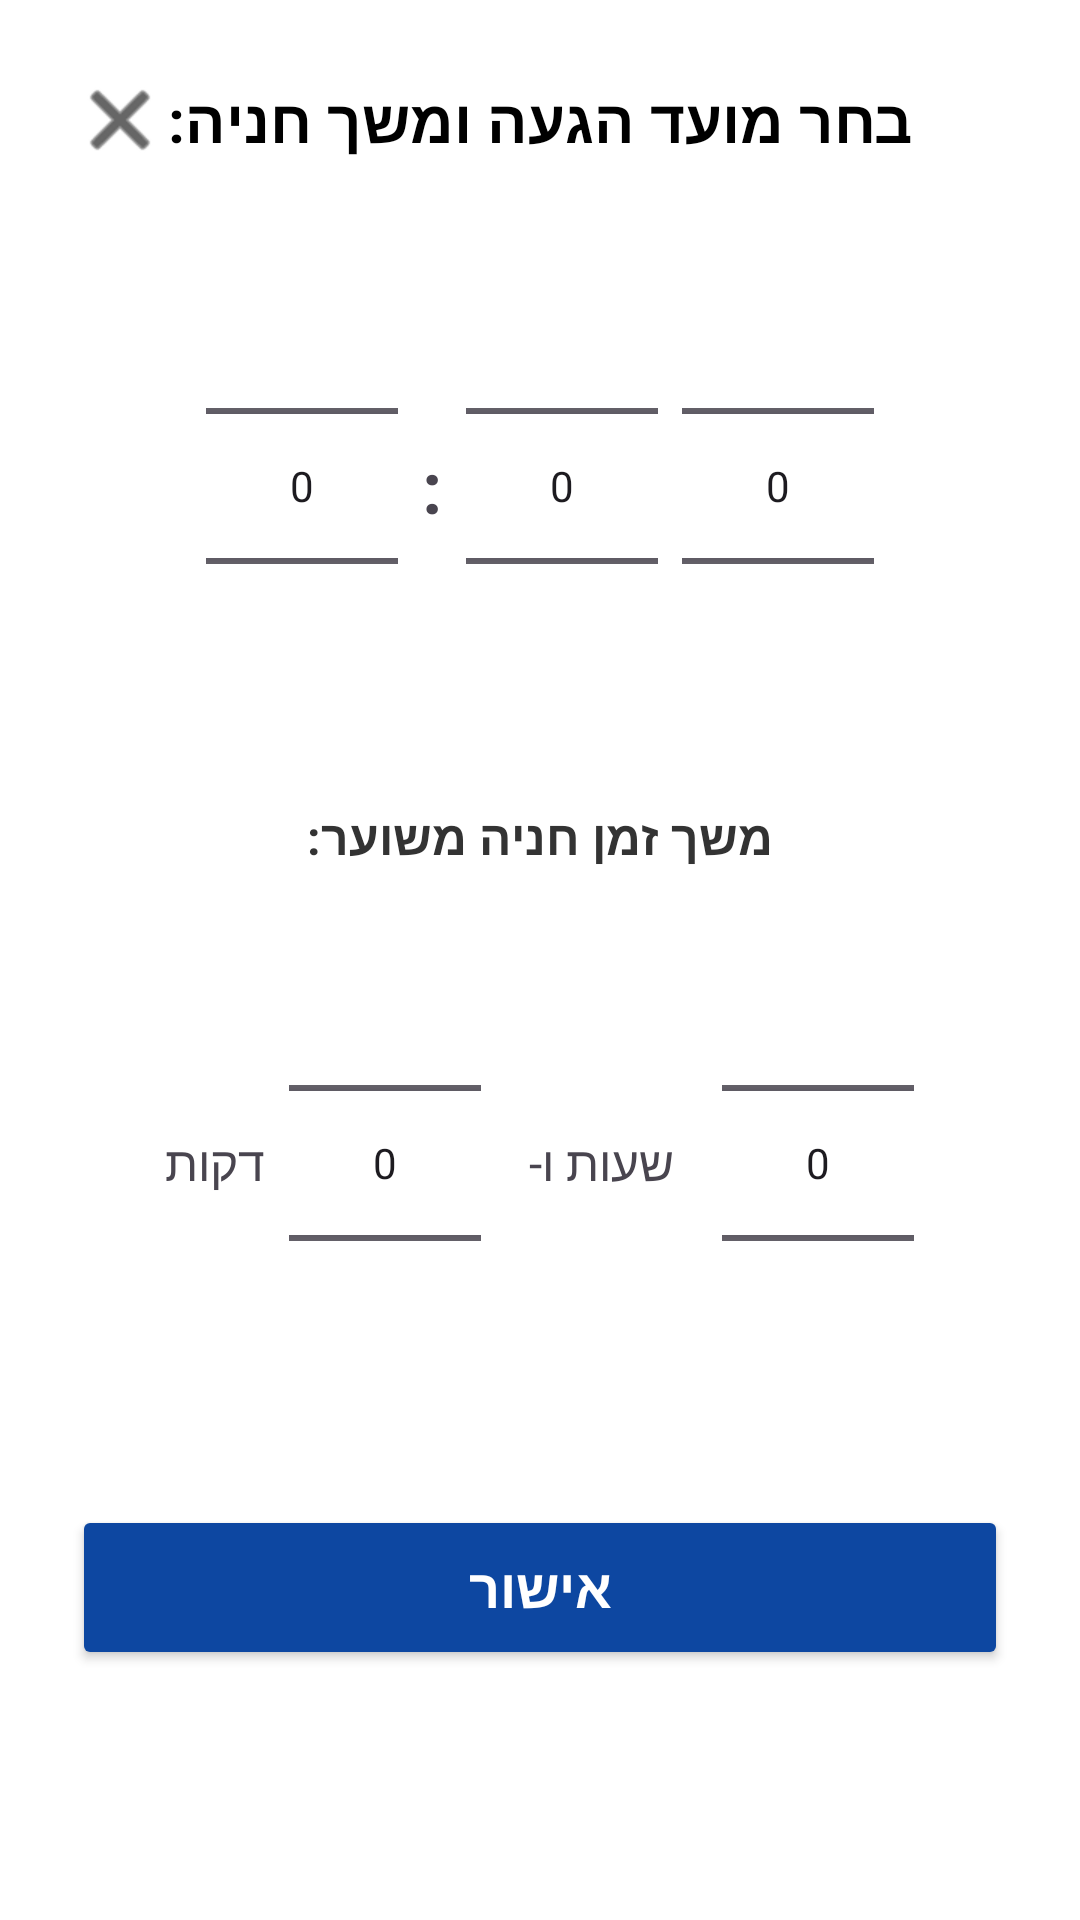

Where icons sit on this 1080 × 1920 app screen, as (x1, y1, x2, y2):
close clear cancel: (90, 90, 150, 150)
